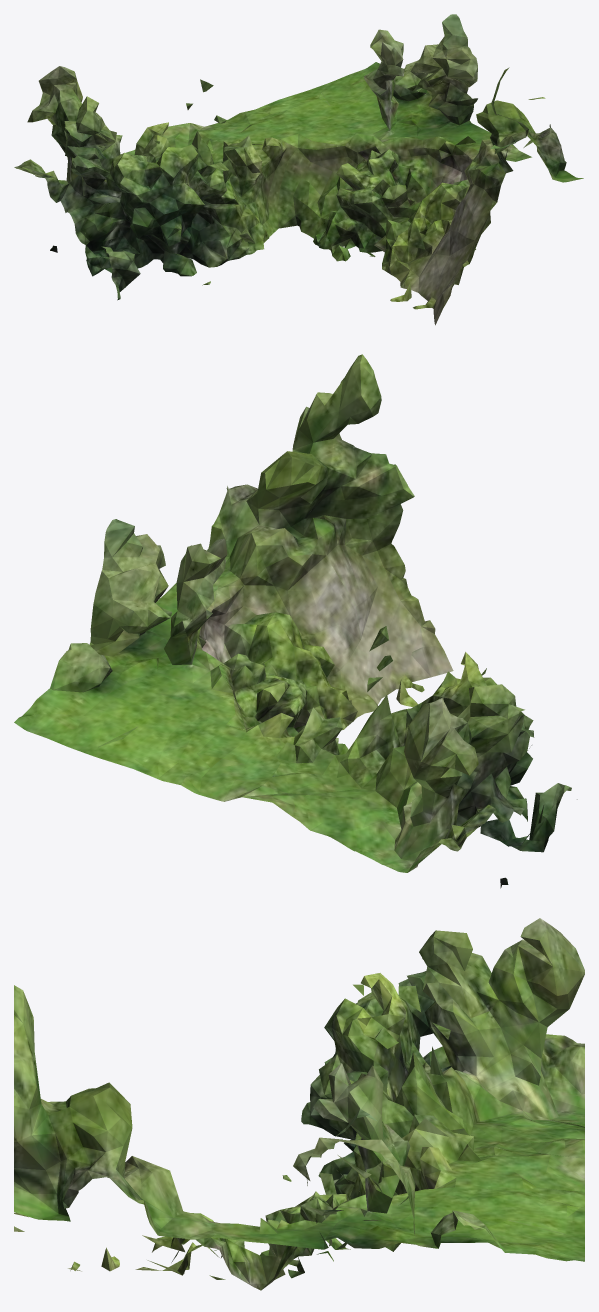
3 renders of one model, top to bottom at view 1: azimuth 30°, elevation 25°; view 2: azimuth 150°, elevation 25°; view 3: azimuth 270°, elevation 25°, orthographic. The views are drawn at different scales.
Size of the model in its own units: 52.22 by 33.13 by 52.22.
Materials: 4 (4 with a texture image).
